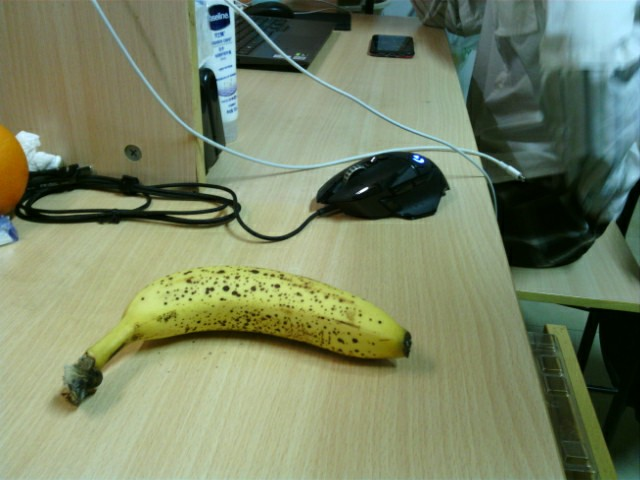normal_banana: (64, 264, 414, 407)
